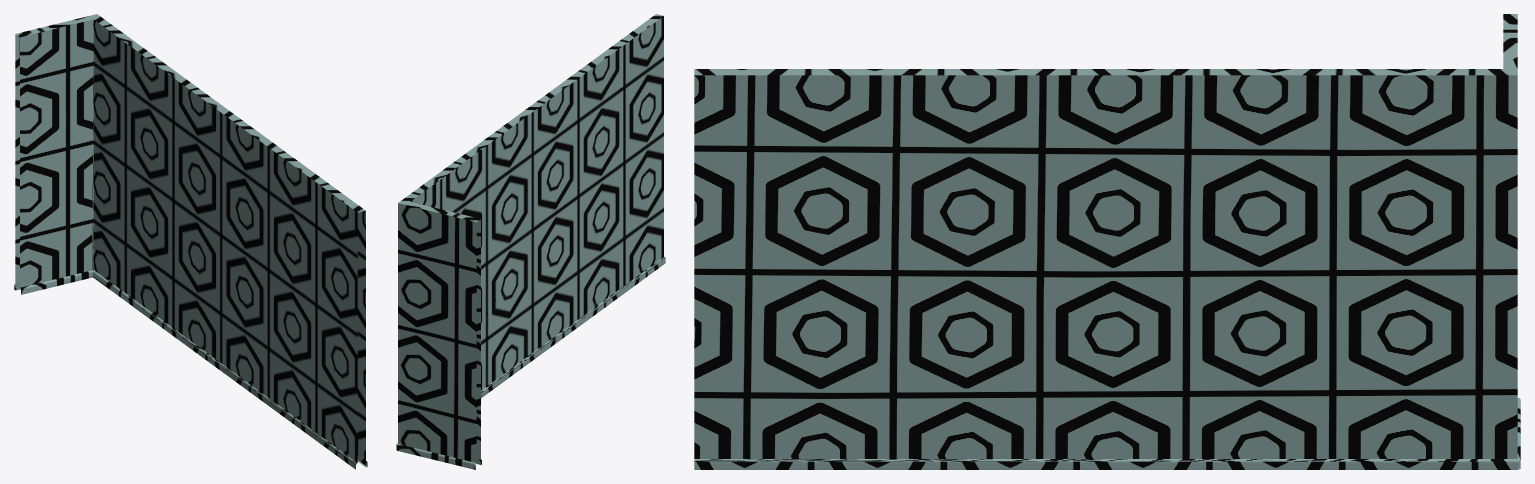
File: Wall test.fbx
3 views of the same model, side by side, from view 1: azimuth 30°, elevation 25°; view 2: azimuth 150°, elevation 25°; view 3: azimuth 270°, elevation 25° (orthographic). The views are drawn at different scales.
Parts seen in each view (by area): view 1: SM_Cornerpiece; view 2: SM_Cornerpiece; view 3: SM_Cornerpiece.
Part boxes in pixels (x1,y1,x2,y2): SM_Cornerpiece: (14, 14, 367, 469); SM_Cornerpiece: (396, 14, 665, 469); SM_Cornerpiece: (694, 14, 1520, 469).
Size of the model in its own units: 510 by 1500 by 2854.
